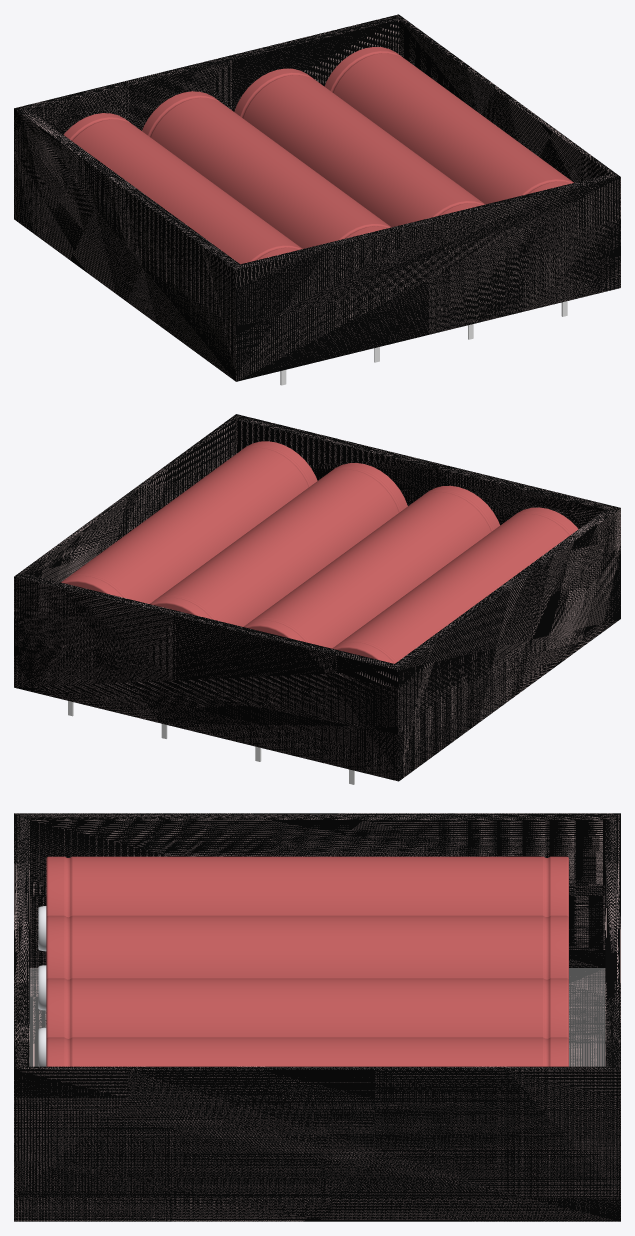
The model's file is Battery holder.dae.
3 views of the same model, one above another, from view 1: azimuth 30°, elevation 25°; view 2: azimuth 150°, elevation 25°; view 3: azimuth 270°, elevation 25° (orthographic). The views are drawn at different scales.
Parts seen in each view (by area): view 1: group_0 (×2), group_9 (×4); view 2: group_0 (×2), group_9 (×4); view 3: group_0 (×3), group_9 (×4).
Boxes of the visible parts, x1,y1,x2,y2 form: group_0 (×2): (14,14,620,381); group_9 (×4): (63,47,573,264); group_0 (×2): (14,414,620,781); group_9 (×4): (61,441,578,663); group_0 (×3): (14,813,620,1221); group_9 (×4): (46,856,568,1066).
Size of the model in its own units: 3.07 by 3.07 by 0.9646.
